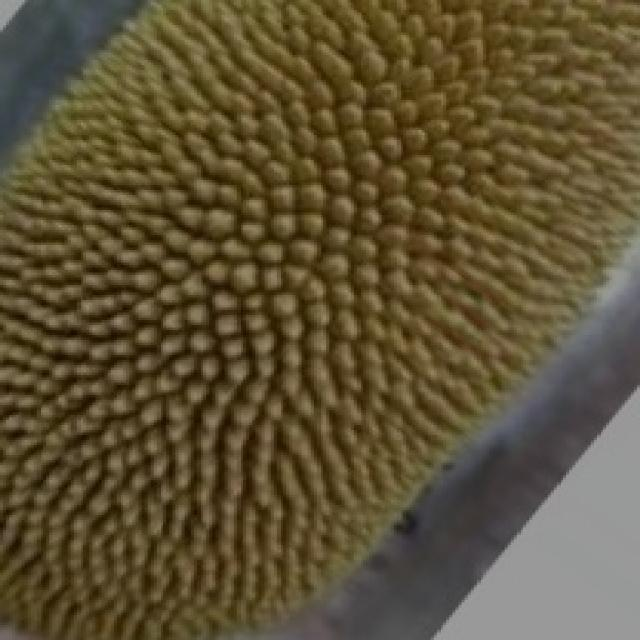Fruit: (0, 0, 406, 458), (255, 0, 639, 382)
